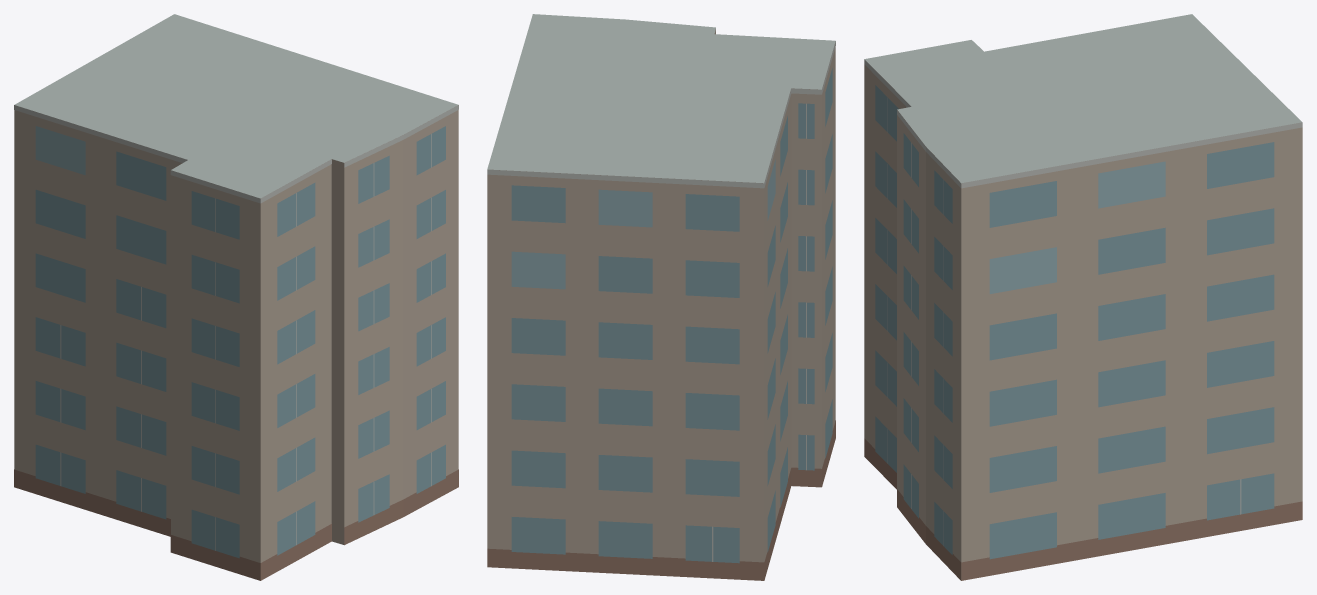
Rendered from survey-upis-32650950.glb.
3 renders of one model, left to right at view 1: azimuth 30°, elevation 25°; view 2: azimuth 150°, elevation 25°; view 3: azimuth 270°, elevation 25°, orthographic. The views are drawn at different scales.
Visible parts, largest first — view 1: survey-upis-32650950.tmp; view 2: survey-upis-32650950.tmp; view 3: survey-upis-32650950.tmp.
Part boxes in pixels (x1,y1,x2,y2): survey-upis-32650950.tmp: (14, 14, 458, 580); survey-upis-32650950.tmp: (487, 14, 835, 580); survey-upis-32650950.tmp: (864, 14, 1302, 580).
Size of the model in its own units: 17.17 by 18.8 by 18.79.
